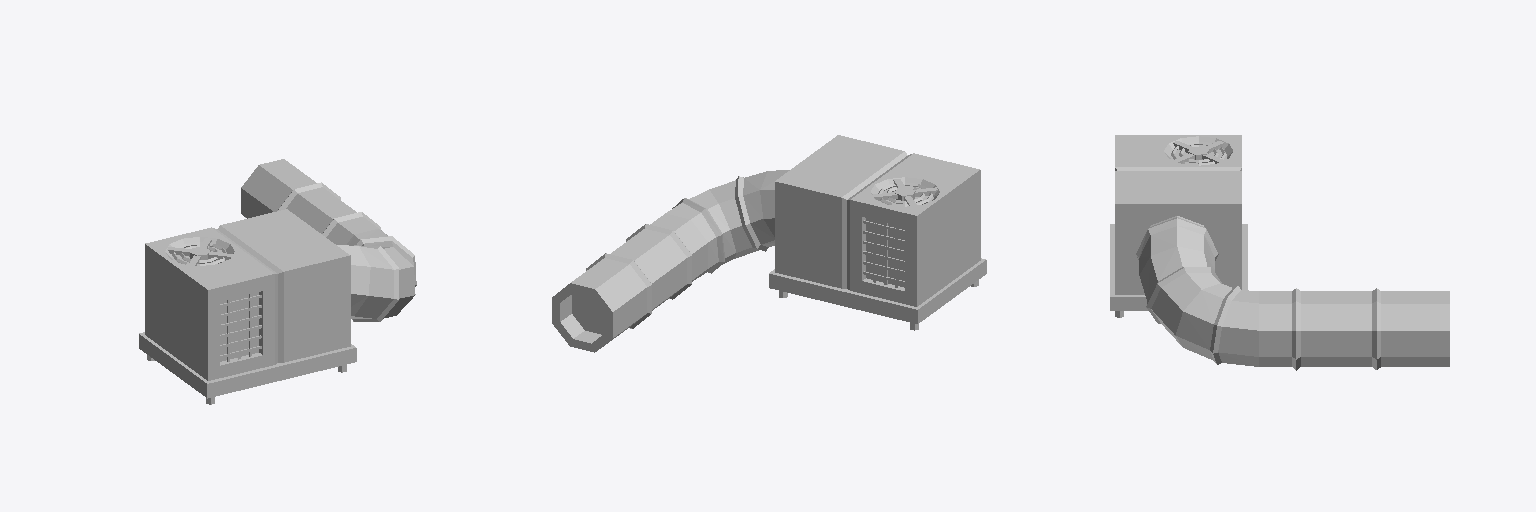
Rendered from conditioner_001.obj.
3 views of the same model, side by side, from view 1: azimuth 30°, elevation 25°; view 2: azimuth 150°, elevation 25°; view 3: azimuth 270°, elevation 25° (orthographic).
Visible parts, largest first — view 1: conditioner_001; view 2: conditioner_001; view 3: conditioner_001.
Boxes of the visible parts, <box> form: conditioner_001: <box>139,159,416,404</box>; conditioner_001: <box>552,135,986,352</box>; conditioner_001: <box>1110,135,1449,370</box>.
Bounding box in the file's own units: 2.3 × 0.9691 × 2.53.